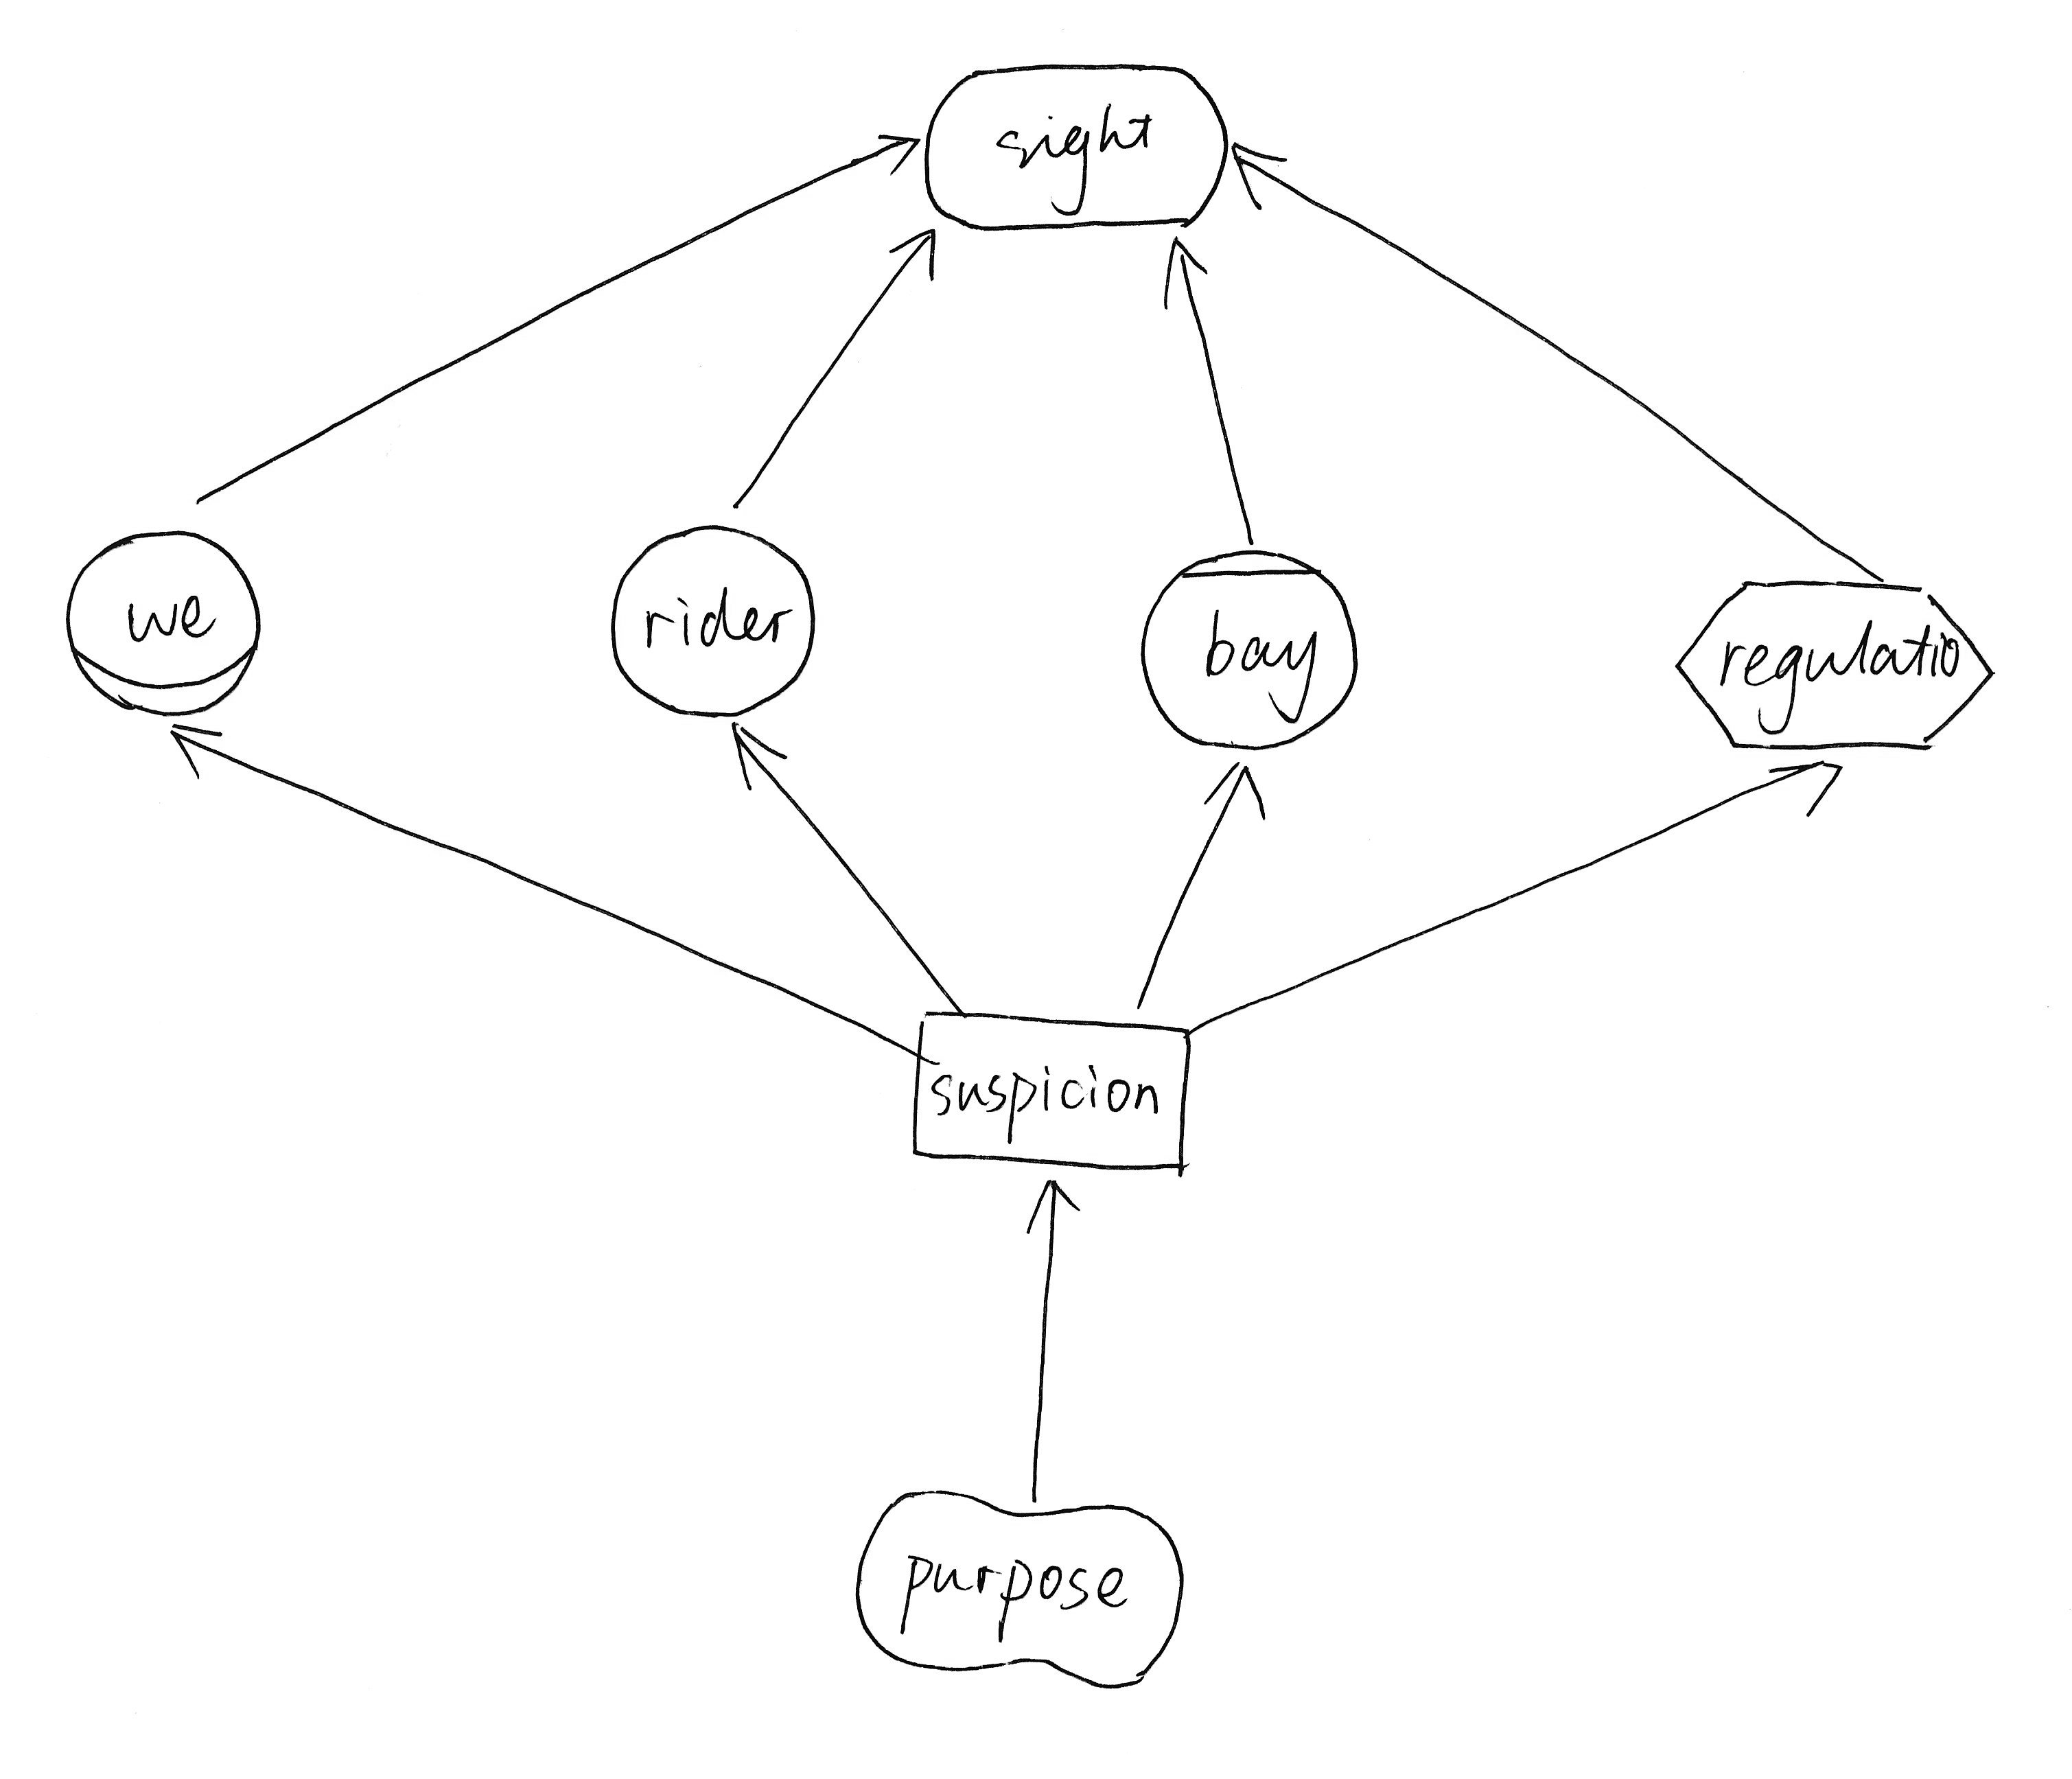actor: (588, 509, 832, 733)
agent: (1122, 537, 1373, 770)
arrow: (1217, 123, 1299, 229), (1143, 227, 1216, 335), (715, 717, 802, 800), (1755, 754, 1850, 828), (1193, 754, 1279, 833), (881, 215, 957, 292), (153, 717, 238, 786), (1013, 1173, 1089, 1240), (870, 114, 925, 187)
goal: (900, 37, 1247, 248)
quality: (837, 1473, 1195, 1701)
role: (49, 511, 273, 733)
task: (1661, 564, 2007, 782), (888, 995, 1205, 1196)
